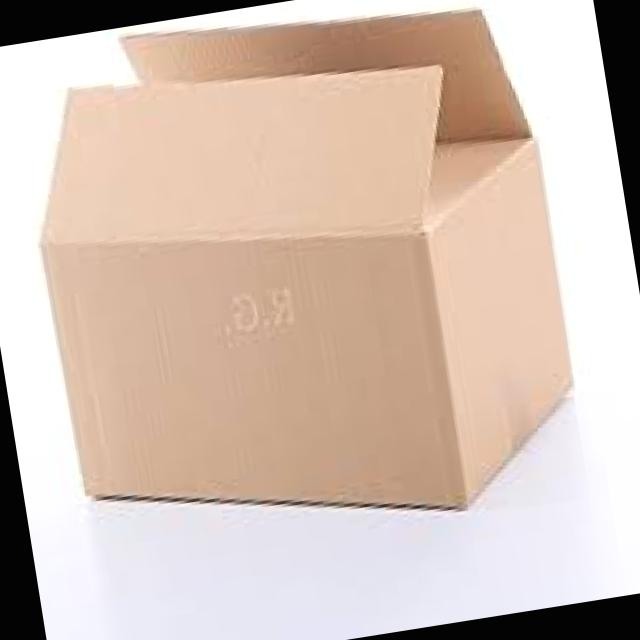cardboard: (40, 13, 569, 507)
